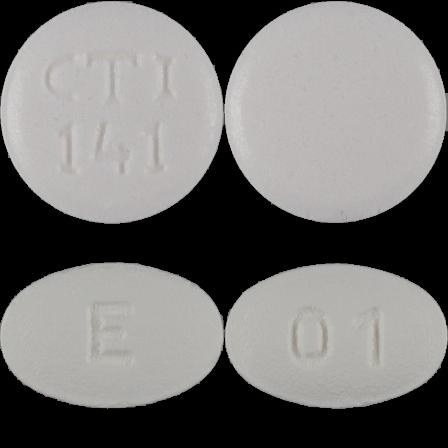70786-0141: (0, 0, 224, 224)
